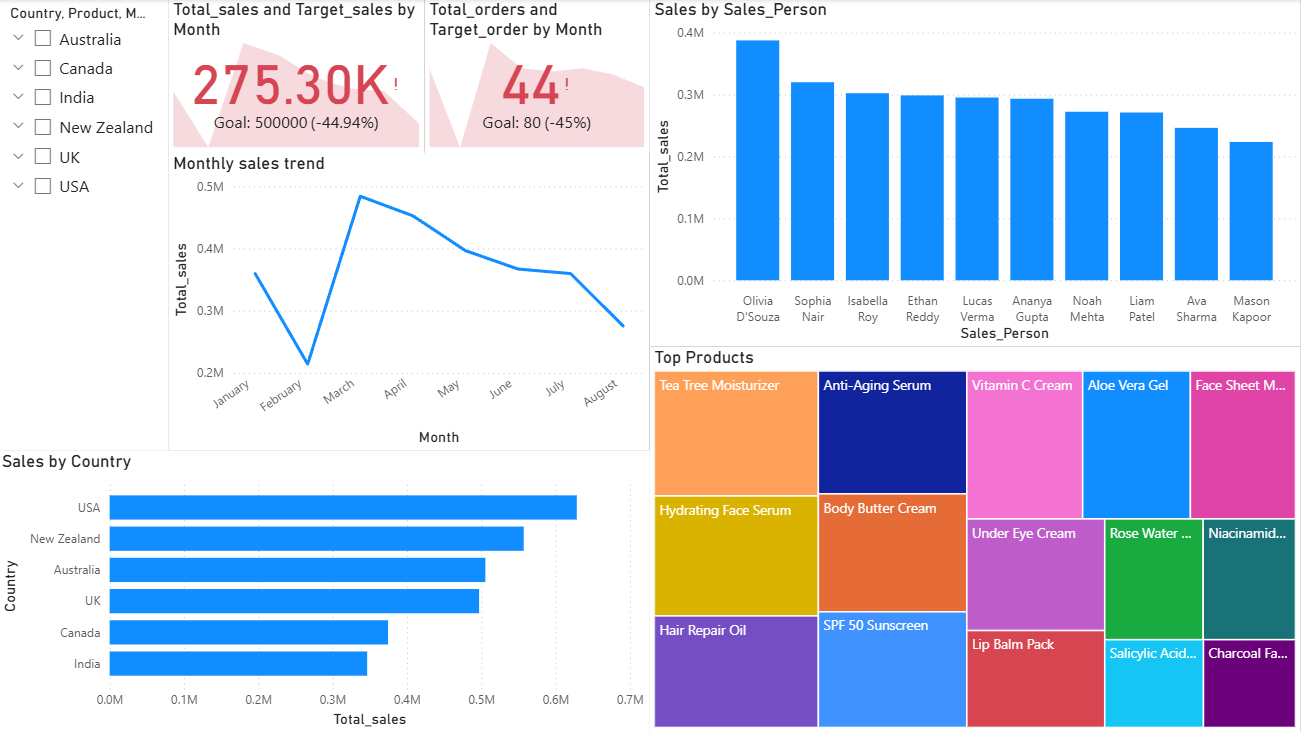

Layout of this report page (visuals, bound fields, positions):
{"tool":"powerbi","page":{"name":"Cosmetics sales dashboard - 2022","canvas":[1280,720],"ordinal":0},"visuals":[{"type":"kpi","fields":{"Indicator":["cosmetics_sales_data_cleaned.Total_sales"],"TrendLine":["cosmetics_sales_data_cleaned.Month"],"Goal":["cosmetics_sales_data_cleaned.Target"]},"box":[168.1,0,251.5,150.9],"z":0},{"type":"kpi","fields":{"Indicator":["cosmetics_sales_data_cleaned.Total_orders"],"TrendLine":["cosmetics_sales_data_cleaned.Month"],"Goal":["cosmetics_sales_data_cleaned.Target_order"]},"box":[419.6,0,220.9,150.9],"z":1},{"type":"clusteredBarChart","title":"Sales by Country","fields":{"Category":["cosmetics_sales_data_cleaned.Country"],"Y":["cosmetics_sales_data_cleaned.Total_sales"]},"box":[0,442.9,640.5,277.3],"z":2},{"type":"lineChart","title":"Monthly sales trend","fields":{"Category":["cosmetics_sales_data_cleaned.Month.Variation.Date Hierarchy.Month"],"Y":["cosmetics_sales_data_cleaned.Total_sales"]},"box":[168.1,150.9,472.4,292],"z":3},{"type":"treemap","title":"Top Products","fields":{"Group":["cosmetics_sales_data_cleaned.Product"],"Values":["cosmetics_sales_data_cleaned.Total_sales"]},"box":[640.5,341.1,639.3,379.1],"z":4},{"type":"clusteredColumnChart","title":"Sales by Sales_Person","fields":{"Category":["cosmetics_sales_data_cleaned.Sales_Person"],"Y":["cosmetics_sales_data_cleaned.Total_sales"]},"box":[640.5,0,639.3,341.1],"z":5},{"type":"slicer","fields":{"Values":["cosmetics_sales_data_cleaned.Country","cosmetics_sales_data_cleaned.Product","cosmetics_sales_data_cleaned.Month.Variation.Date Hierarchy.Month"]},"box":[0,0,168.1,442.9],"z":6}]}

Visuals, with their boxes in screenshot pixels (x1, y1, x2, y2), scaled from the page's 1280x720 canvas onto the 1301x732 screenshot:
kpi - cosmetics_sales_data_cleaned.Total_sales x cosmetics_sales_data_cleaned.Month: 171 0 426 153
kpi - cosmetics_sales_data_cleaned.Total_orders x cosmetics_sales_data_cleaned.Month: 426 0 651 153
"Sales by Country" clusteredBarChart: 0 450 651 731
"Monthly sales trend" lineChart: 171 153 651 450
"Top Products" treemap: 651 347 1300 731
"Sales by Sales_Person" clusteredColumnChart: 651 0 1300 347
slicer - cosmetics_sales_data_cleaned.Country x cosmetics_sales_data_cleaned.Product: 0 0 171 450
